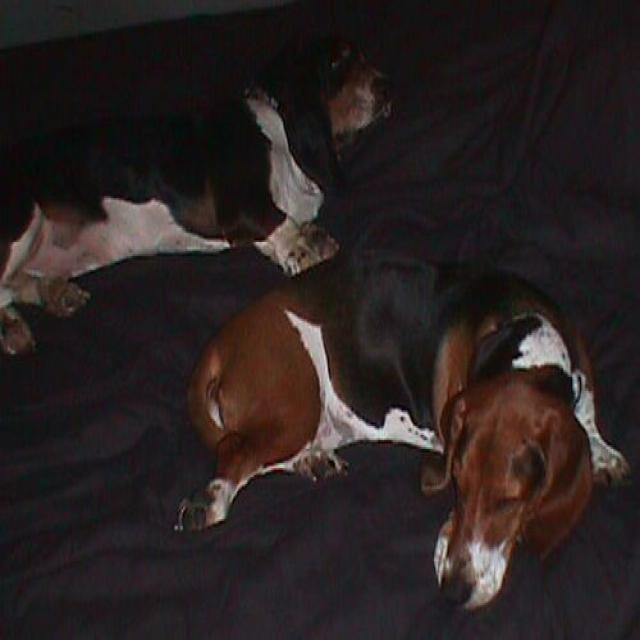Dog: (0, 77, 506, 330), (390, 263, 628, 640), (129, 306, 449, 566)
